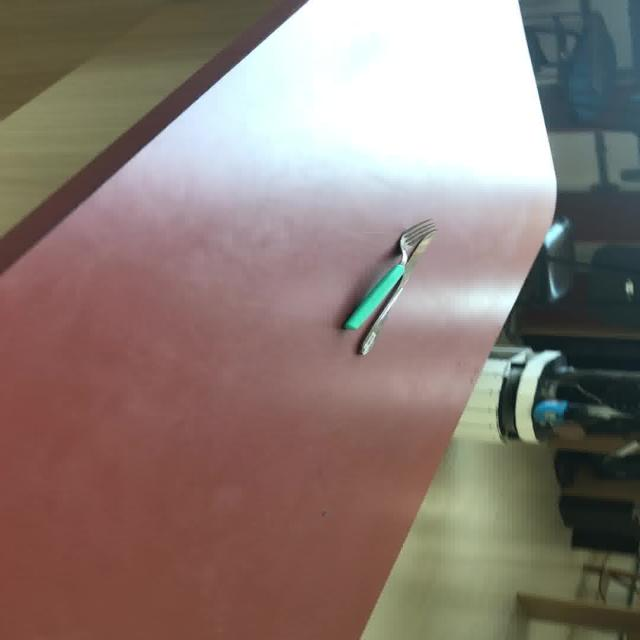fork: (355, 217, 437, 355), (341, 217, 436, 330)
knife fork: (342, 217, 438, 355)
